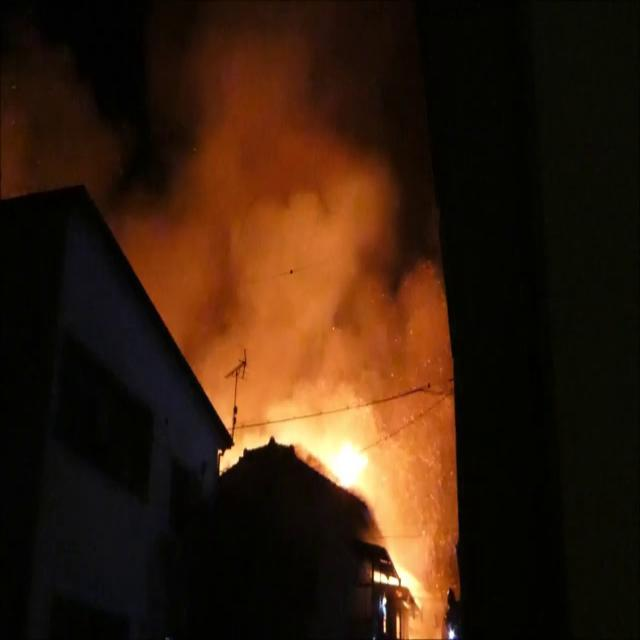Smoke: (9, 2, 457, 402)
